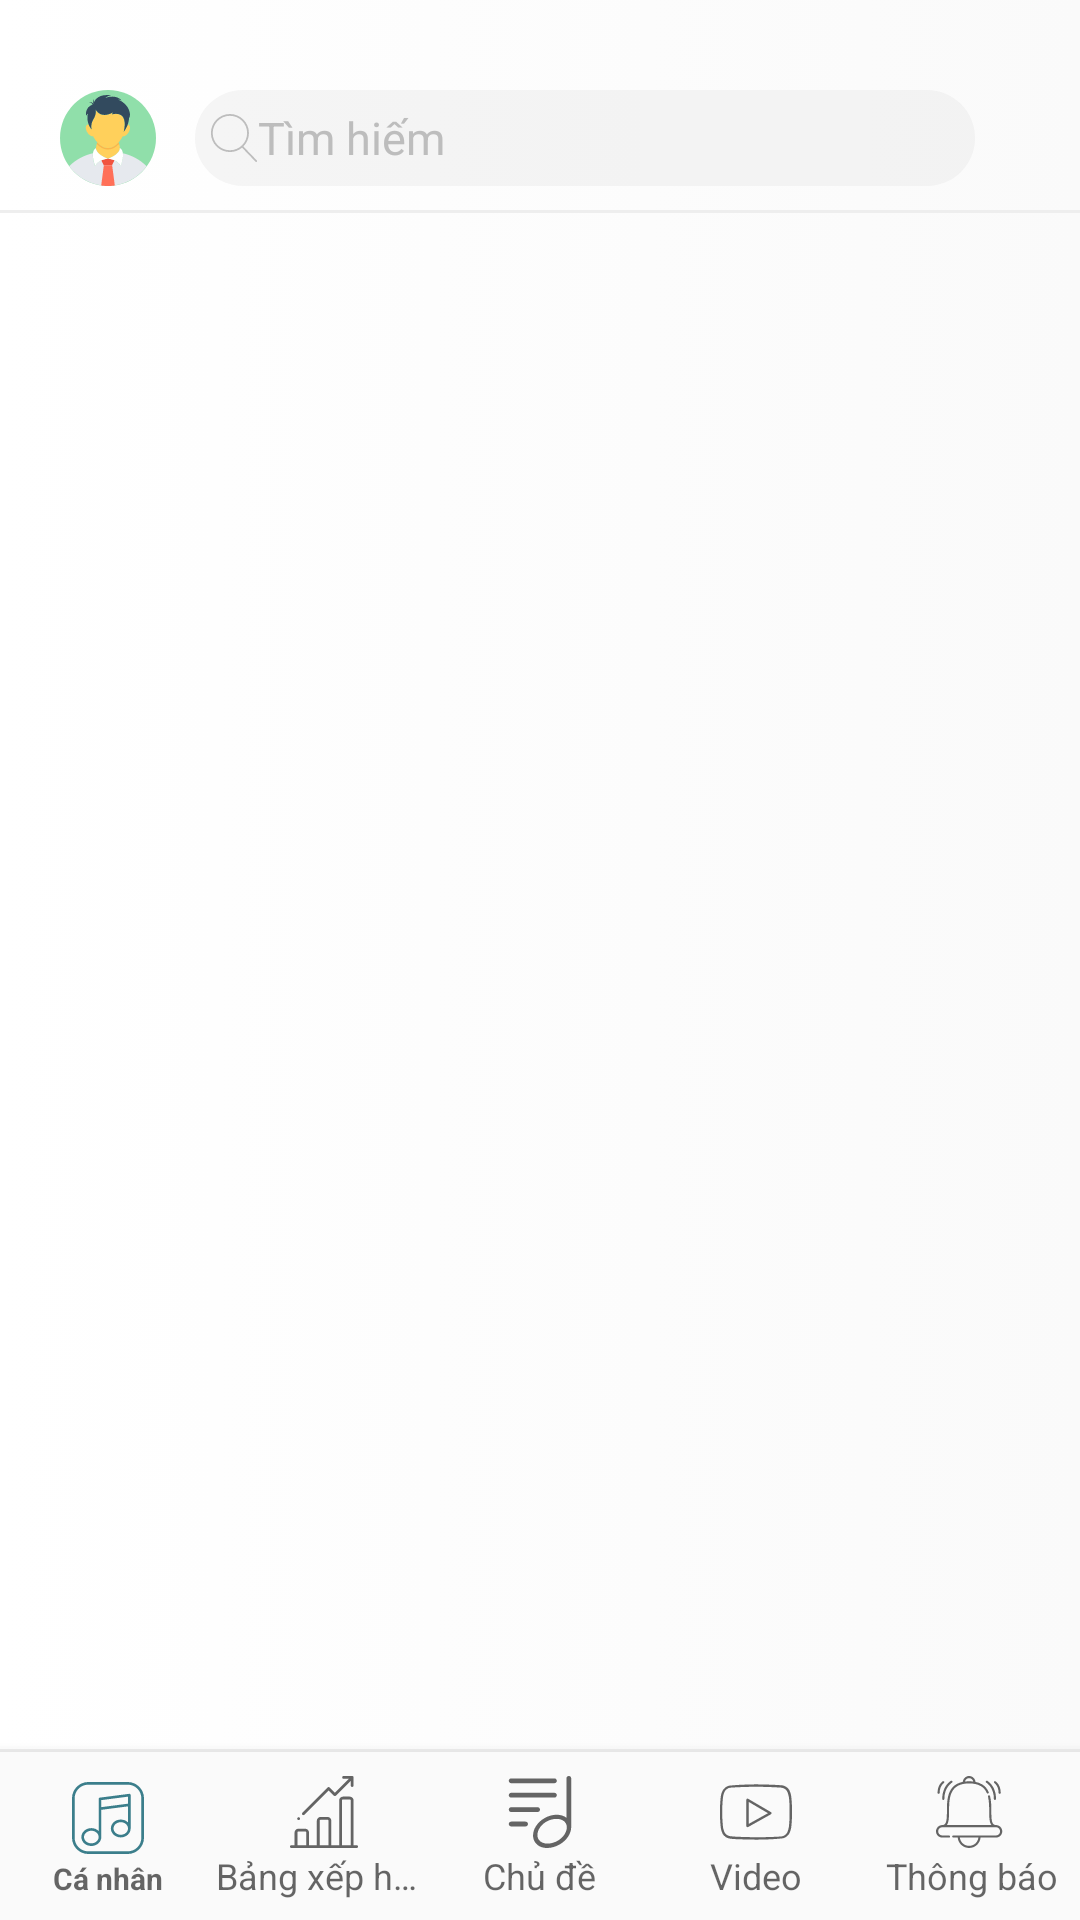

Icons on this 1080 × 1920 Android screen, each with its box as (x1, y1, x2, y2):
user: (60, 90, 156, 186)
